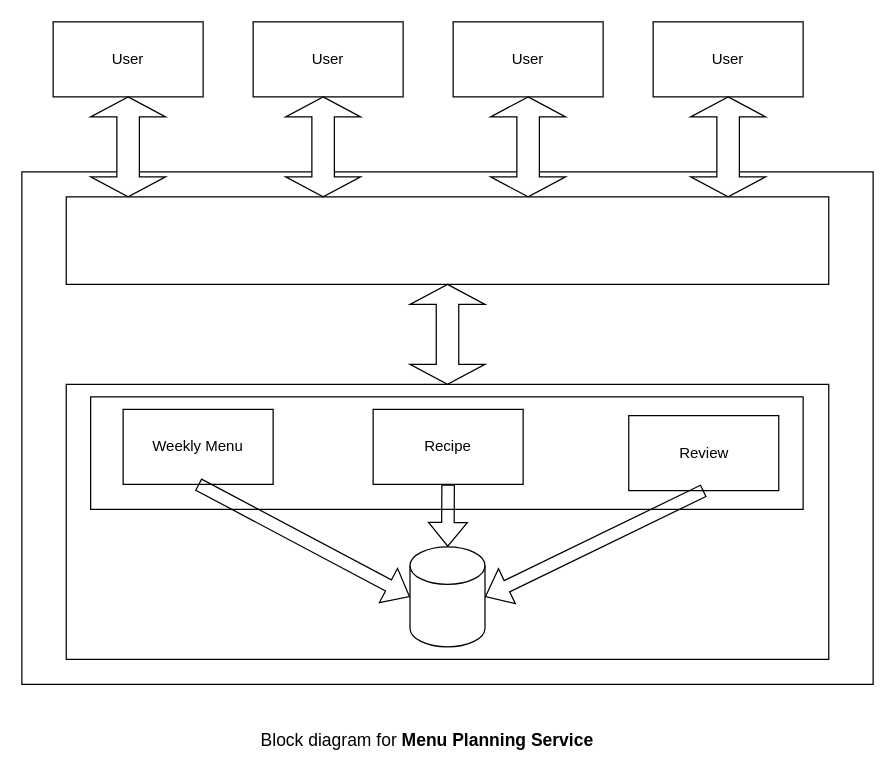
Image size: 895x781. Some labels were removed from this diagram. The shapes that lost their labels are listed below. From the top down, each one's centre as x and y in pixels, then its label:
At point (447, 240): "System Interface".
At point (447, 596): "DB".
